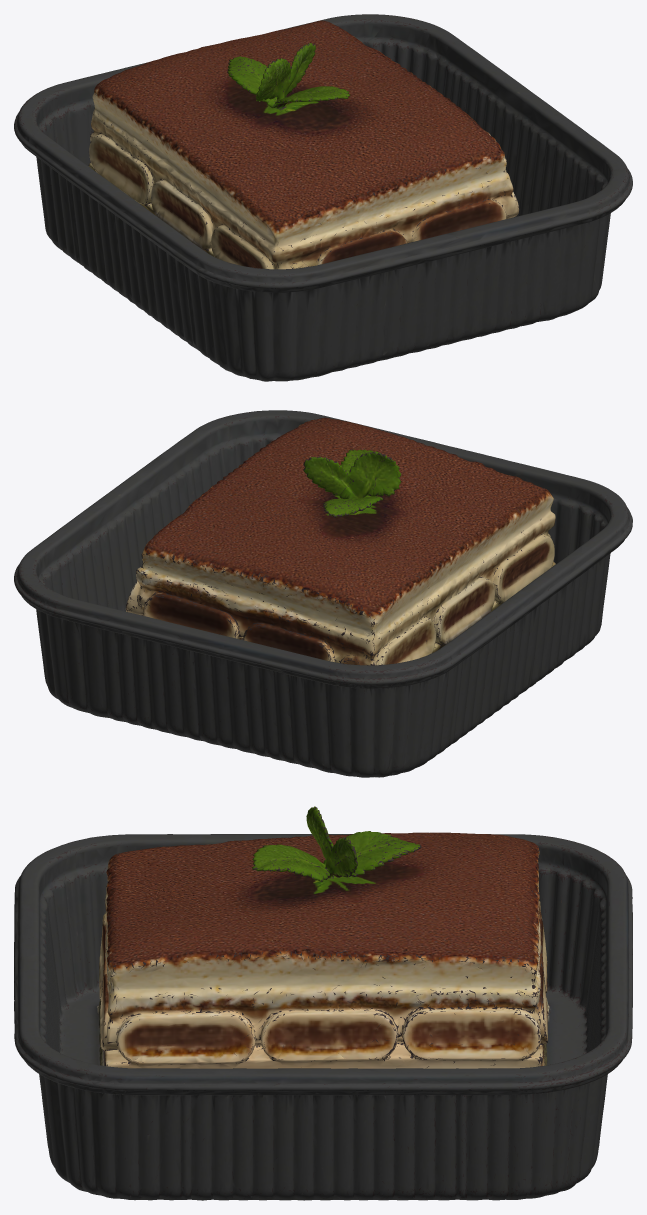
File: tiramisu.glb
3 renders of one model, top to bottom at view 1: azimuth 30°, elevation 25°; view 2: azimuth 150°, elevation 25°; view 3: azimuth 270°, elevation 25°, orthographic. The views are drawn at different scales.
Visible parts, largest first — view 1: Dish; view 2: Dish; view 3: Dish.
Part boxes in pixels (box(x1,y1,x2,y2)): Dish: box(14, 14, 632, 381); Dish: box(14, 410, 632, 777); Dish: box(14, 806, 632, 1200).
Bounding box in the file's own units: 0.1514 × 0.0744 × 0.16.
Materials: 1 (1 with a texture image).
